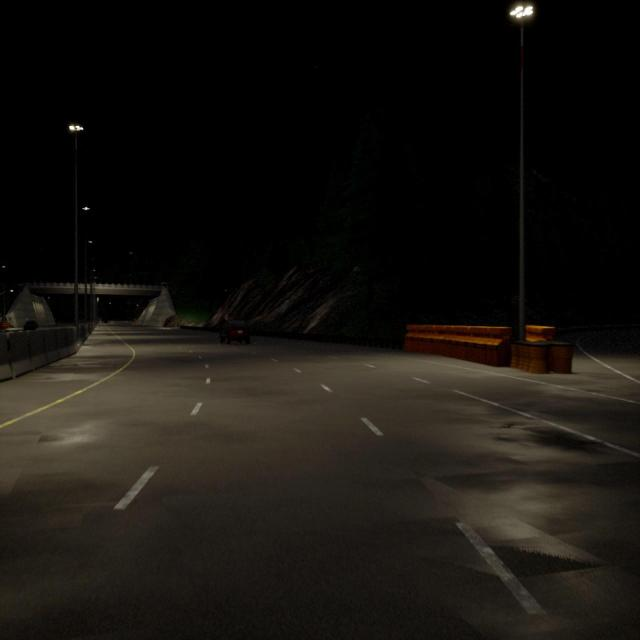Traffic_Signs: (224, 314, 228, 320)
Vehicle: (220, 322, 250, 346), (24, 320, 38, 330)
